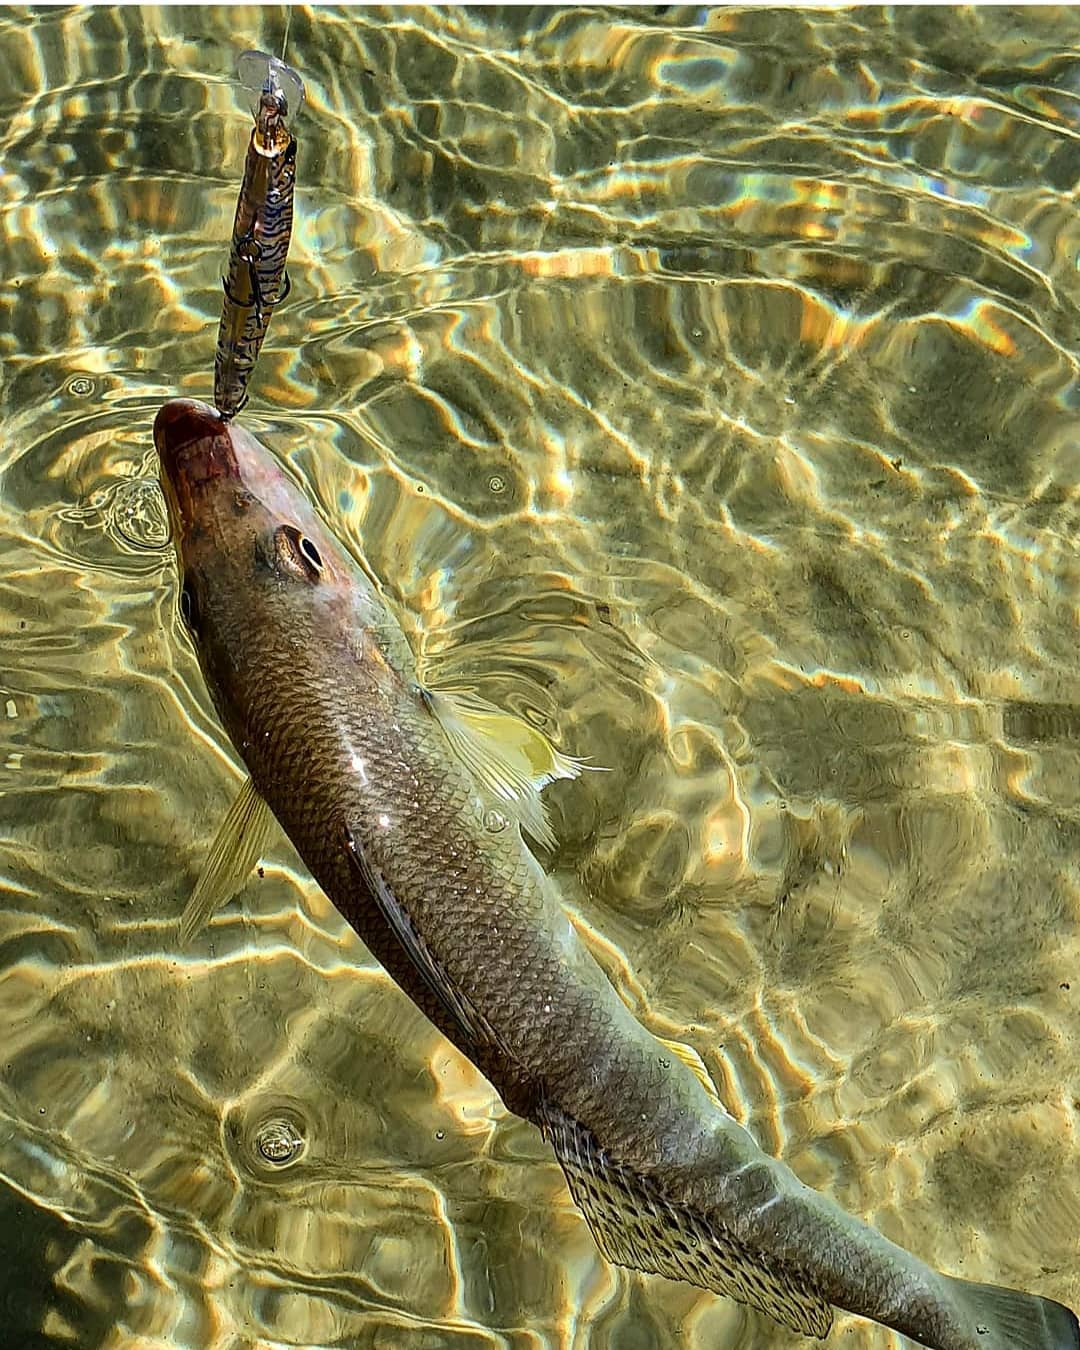kiss: (201, 32, 309, 413)
